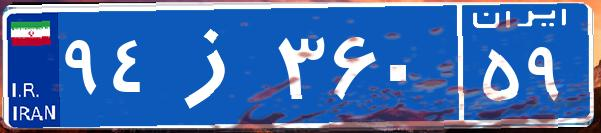0: (385, 28, 445, 110)
3: (273, 28, 330, 110)
4: (110, 28, 158, 105)
5: (475, 38, 525, 113)
6: (330, 28, 385, 110)
9: (57, 26, 110, 107), (525, 38, 570, 115)
ز: (158, 15, 273, 115)
